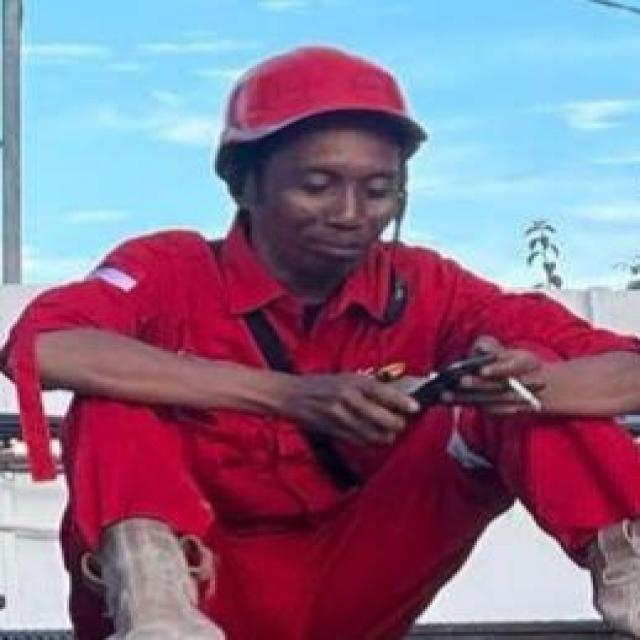safetyhelmet: (205, 42, 424, 231)
